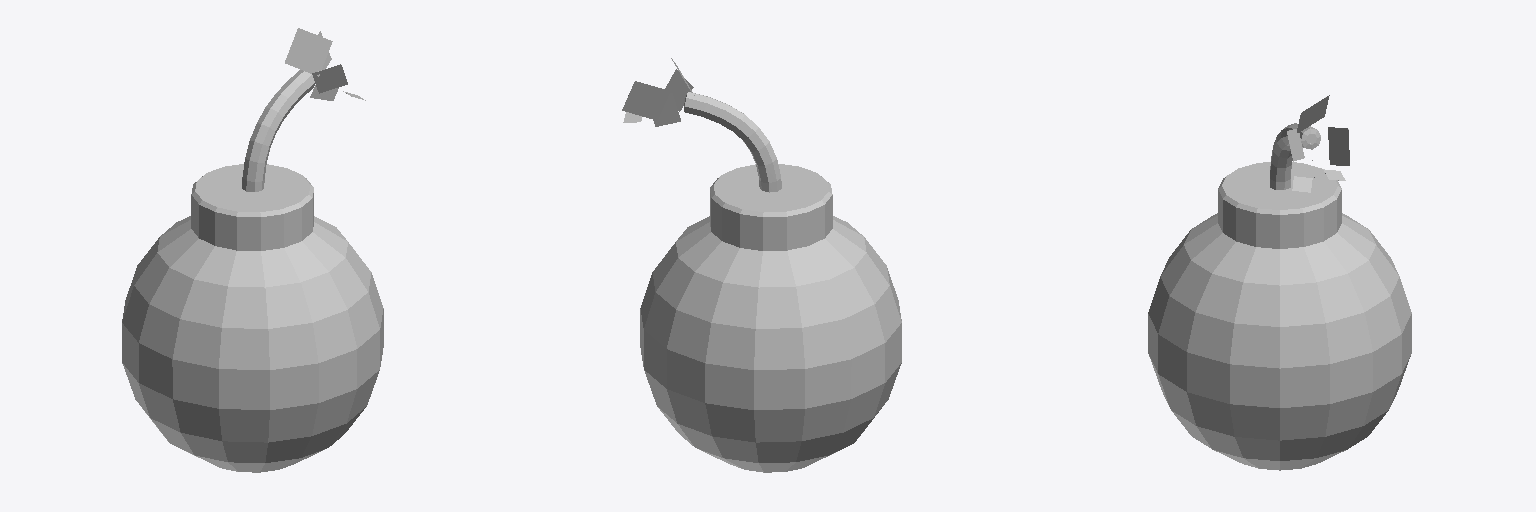
File: bomb_000010.obj
The picture shows the model from 3 angles: view 1: azimuth 30°, elevation 25°; view 2: azimuth 150°, elevation 25°; view 3: azimuth 270°, elevation 25°; orthographic projection.
Visible parts, largest first — view 1: Sphere, NurbsPath, Plane_5.001_Mesh.001; view 2: Sphere, NurbsPath, Plane_5.001_Mesh.001; view 3: Sphere, Plane_5.001_Mesh.001, NurbsPath.
Part boxes in pixels (left/top/right/bottom): Sphere: left=122, top=164, right=383, bottom=472; NurbsPath: left=242, top=70, right=315, bottom=191; Plane_5.001_Mesh.001: left=285, top=28, right=365, bottom=100; Sphere: left=640, top=164, right=901, bottom=472; NurbsPath: left=684, top=92, right=781, bottom=192; Plane_5.001_Mesh.001: left=622, top=58, right=694, bottom=126; Sphere: left=1148, top=162, right=1411, bottom=470; Plane_5.001_Mesh.001: left=1287, top=95, right=1349, bottom=192; NurbsPath: left=1270, top=123, right=1320, bottom=189.
Size of the model in its own units: 0.8893 by 1.4 by 0.8651.